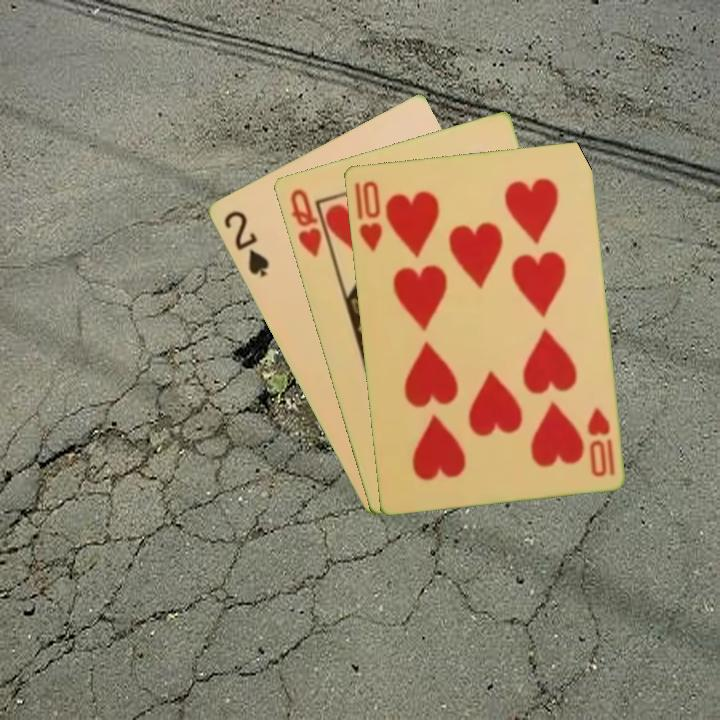10h: (350, 177, 385, 254), (583, 403, 617, 480)
2s: (219, 206, 272, 280)
Qh: (286, 185, 334, 260)
